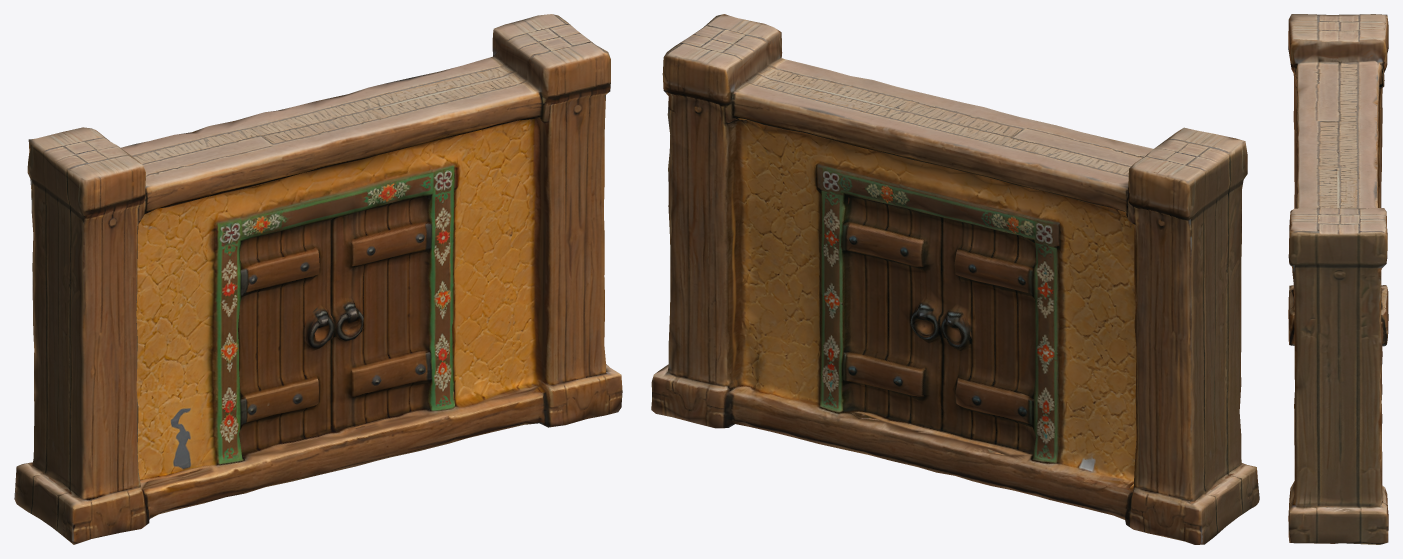
3 views of the same model, side by side, from view 1: azimuth 30°, elevation 25°; view 2: azimuth 150°, elevation 25°; view 3: azimuth 270°, elevation 25° (orthographic). The views are drawn at different scales.
Visible parts, largest first — view 1: input; view 2: input; view 3: input.
Part boxes in pixels (box(x1,y1,x2,y2)): input: box(14, 14, 622, 544); input: box(651, 14, 1259, 544); input: box(1288, 14, 1388, 544).
Size of the model in its own units: 0.9968 by 0.6273 by 0.1849.
1 material, 1 textured.
